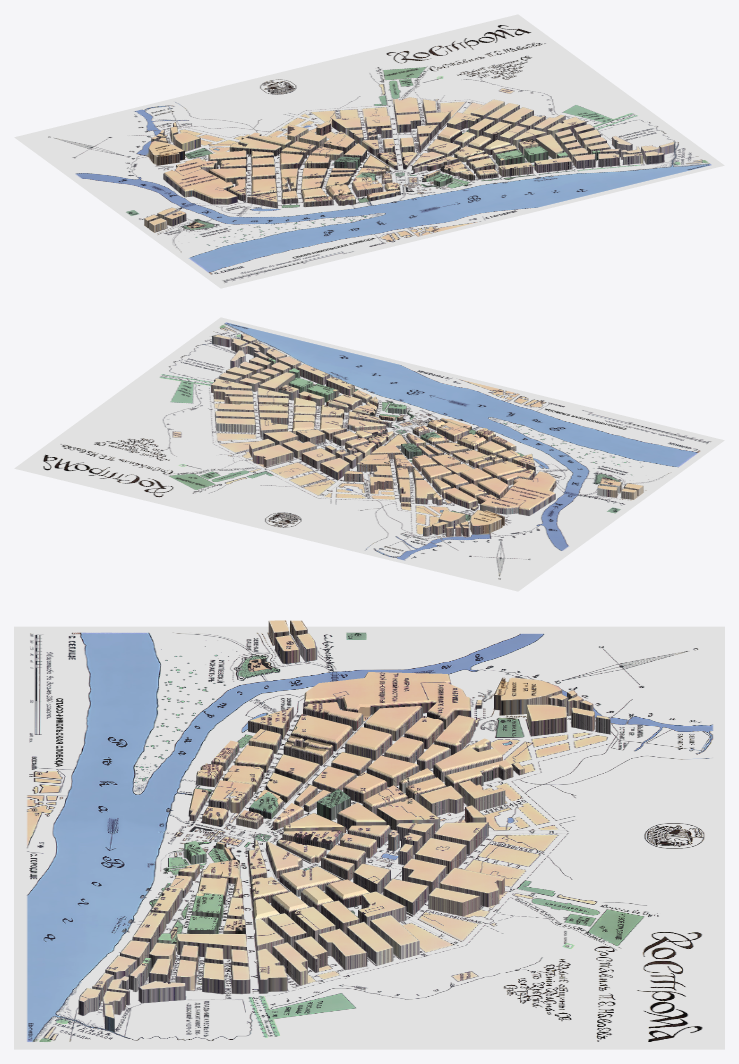
Rendered from samoderzhavie.dae.
The picture shows the model from 3 angles, top to bottom: view 1: azimuth 30°, elevation 25°; view 2: azimuth 150°, elevation 25°; view 3: azimuth 270°, elevation 25°; orthographic projection. The views are drawn at different scales.
Visible parts, largest first — view 1: Plane; view 2: Plane; view 3: Plane.
Part boxes in pixels (x1,y1,x2,y2): Plane: [14, 14, 724, 288]; Plane: [14, 317, 724, 591]; Plane: [14, 620, 724, 1049].
Bounding box in the file's own units: 2.07 × 1.47 × 0.0331.
Materials: 37 (1 with a texture image).
